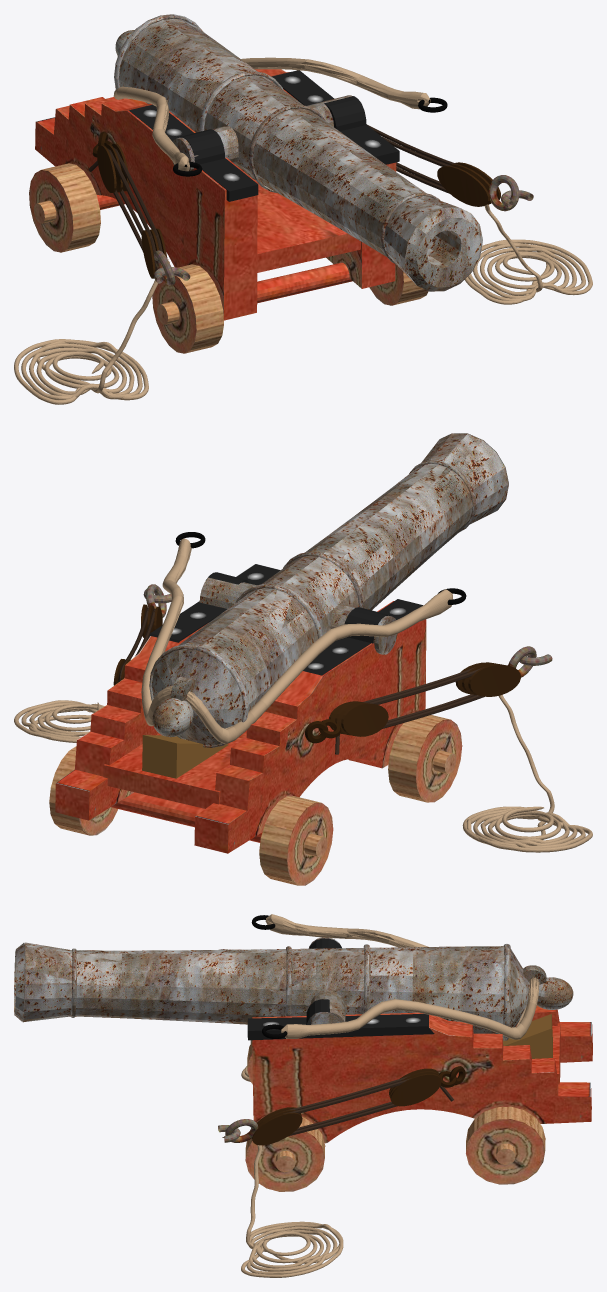
Rendered from canon.obj.
3 renders of one model, top to bottom at view 1: azimuth 30°, elevation 25°; view 2: azimuth 150°, elevation 25°; view 3: azimuth 270°, elevation 25°, orthographic. The views are drawn at different scales.
Visible parts, largest first — view 1: lavet06, kanon06, Helix08, Helix07, Line11, tacle08, tacle07, Torus17; view 2: lavet06, kanon06, Line11, tacle08, Helix08, Helix07, Box04, tacle07; view 3: lavet06, kanon06, Line11, tacle07, Helix07, Box04.
Boxes of the visible parts, bbox=[...] form: lavet06: bbox=[29, 69, 428, 353]; kanon06: bbox=[114, 14, 482, 291]; Helix08: bbox=[14, 257, 169, 404]; Helix07: bbox=[464, 204, 592, 304]; Line11: bbox=[113, 57, 430, 171]; tacle08: bbox=[88, 131, 167, 278]; tacle07: bbox=[366, 124, 500, 206]; Torus17: bbox=[488, 175, 519, 211]; lavet06: bbox=[49, 564, 462, 885]; kanon06: bbox=[149, 433, 508, 747]; Line11: bbox=[141, 538, 452, 744]; tacle08: bbox=[305, 662, 520, 754]; Helix08: bbox=[462, 695, 592, 852]; Helix07: bbox=[14, 700, 104, 742]; Box04: bbox=[142, 735, 228, 778]; tacle07: bbox=[113, 604, 162, 685]; lavet06: bbox=[245, 938, 592, 1191]; kanon06: bbox=[14, 937, 573, 1040]; Line11: bbox=[265, 914, 539, 1039]; tacle07: bbox=[252, 1066, 465, 1145]; Helix07: bbox=[241, 1145, 343, 1277]; Box04: bbox=[503, 1014, 552, 1058].
Bounding box in the file's own units: 50.21 × 20.82 × 51.53.
